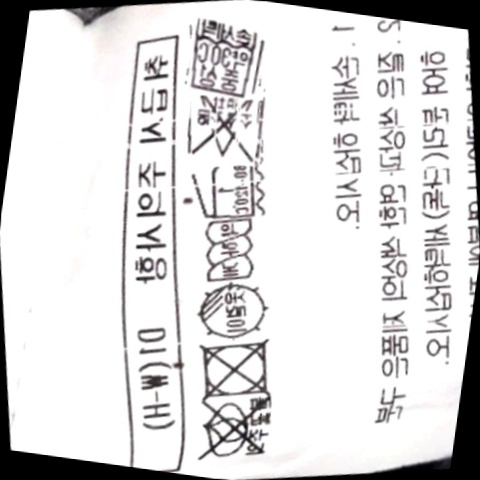DN_tumble_dry: (189, 328, 285, 408)
hand_wash: (179, 15, 271, 101)
iron_low: (188, 155, 267, 227)
line_dry_in_shade: (187, 275, 277, 346)
wring: (197, 213, 264, 290)
